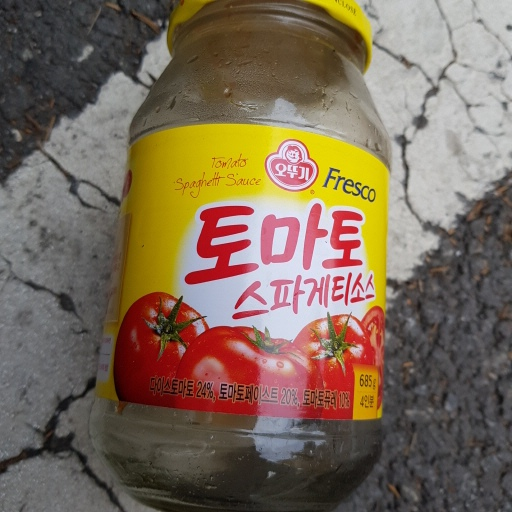Glass_5: (96, 1, 391, 501)
